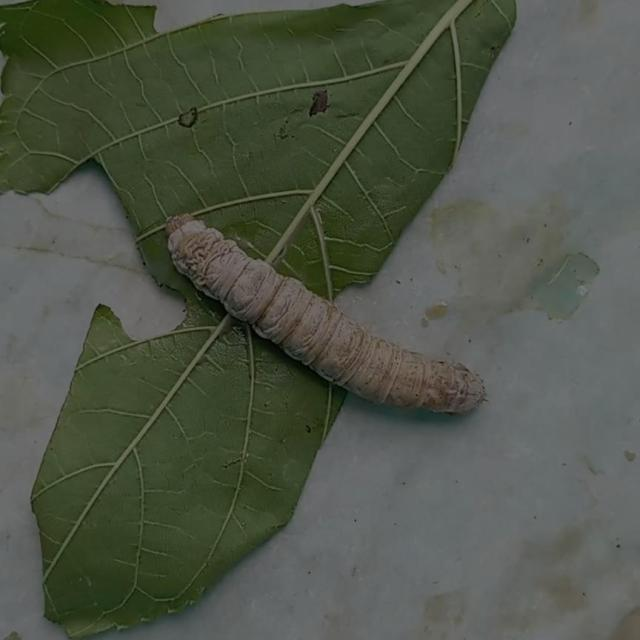Grasserie: (157, 205, 488, 420)
